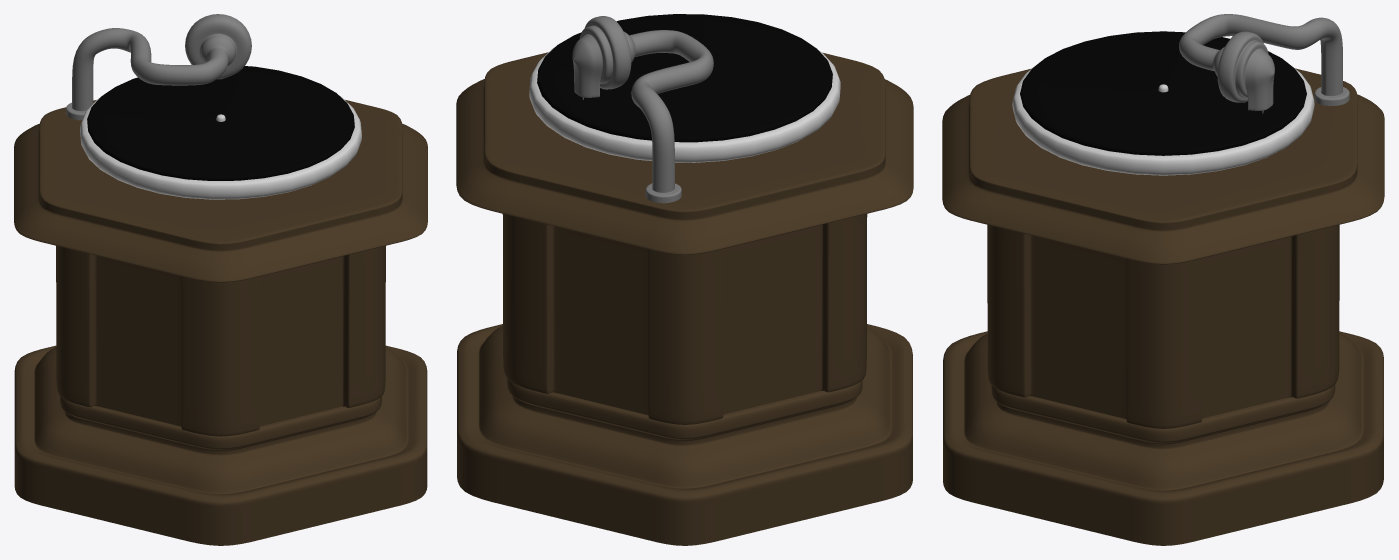
The model's file is Record player.fbx.
3 views of the same model, side by side, from view 1: azimuth 30°, elevation 25°; view 2: azimuth 150°, elevation 25°; view 3: azimuth 270°, elevation 25° (orthographic). The views are drawn at different scales.
Parts seen in each view (by area): view 1: pCylinder5; view 2: pCylinder5; view 3: pCylinder5.
Part boxes in pixels (x1,y1,x2,y2): pCylinder5: (14, 14, 427, 545); pCylinder5: (456, 14, 913, 545); pCylinder5: (942, 14, 1384, 545).
Size of the model in its own units: 12.26 by 11.59 by 10.93.
